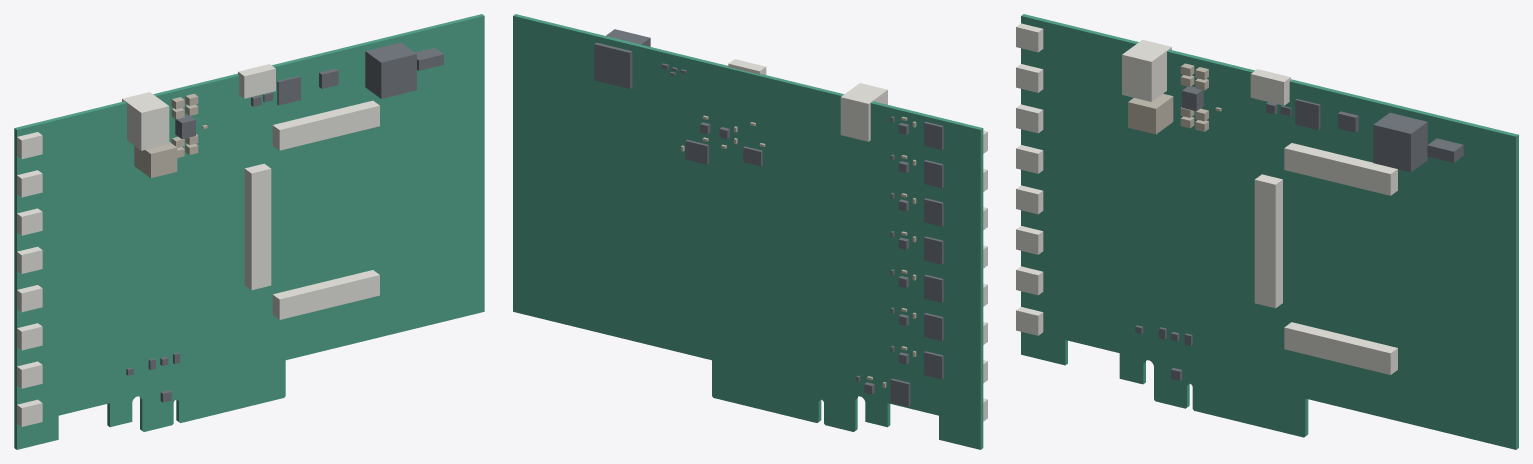
The model's file is HDMI_Extension_Board_V25.glb.
3 views of the same model, side by side, from view 1: azimuth 30°, elevation 25°; view 2: azimuth 150°, elevation 25°; view 3: azimuth 330°, elevation 25° (orthographic). The views are drawn at different scales.
Visible parts, largest first — view 1: board, conn, ic, passive; view 2: board, ic, conn, passive; view 3: board, conn, ic, passive.
Boxes of the visible parts, bbox=[...] form: board: bbox=[14, 14, 484, 449]; conn: bbox=[17, 64, 379, 426]; ic: bbox=[126, 42, 443, 402]; passive: bbox=[134, 93, 207, 177]; board: bbox=[513, 14, 983, 449]; ic: bbox=[594, 29, 943, 406]; conn: bbox=[728, 59, 987, 421]; passive: bbox=[681, 115, 916, 387]; board: bbox=[1021, 14, 1518, 449]; conn: bbox=[1016, 23, 1397, 374]; ic: bbox=[1135, 86, 1463, 380]; passive: bbox=[1128, 63, 1221, 134].
Size of the model in its own units: 168 by 115 by 13.44.
